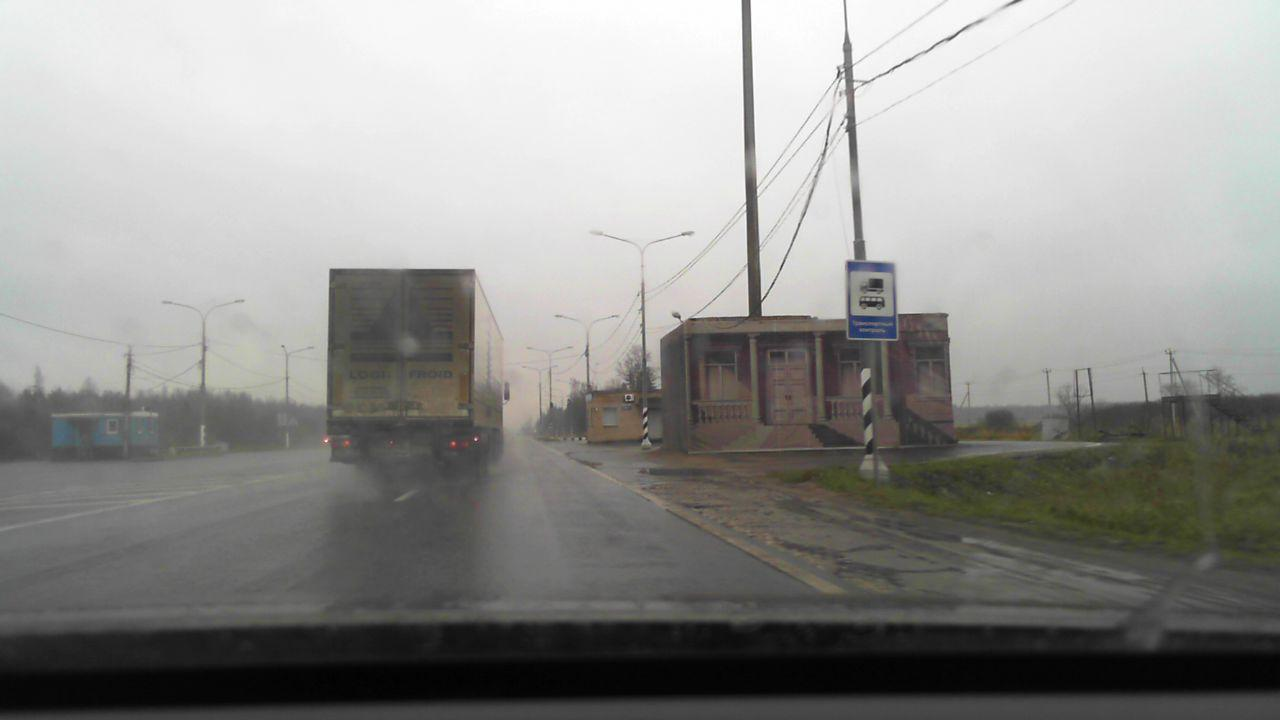7_14_2: (844, 259, 898, 340)
